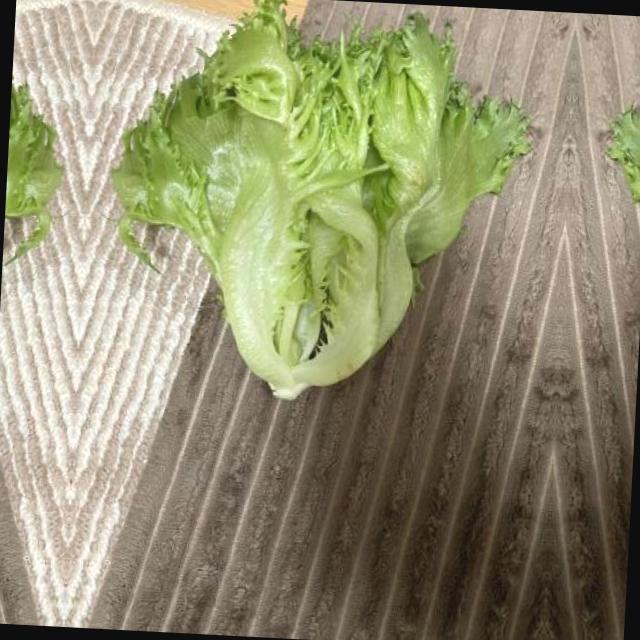healthy: (95, 0, 541, 418), (0, 0, 78, 394), (591, 15, 640, 425)
